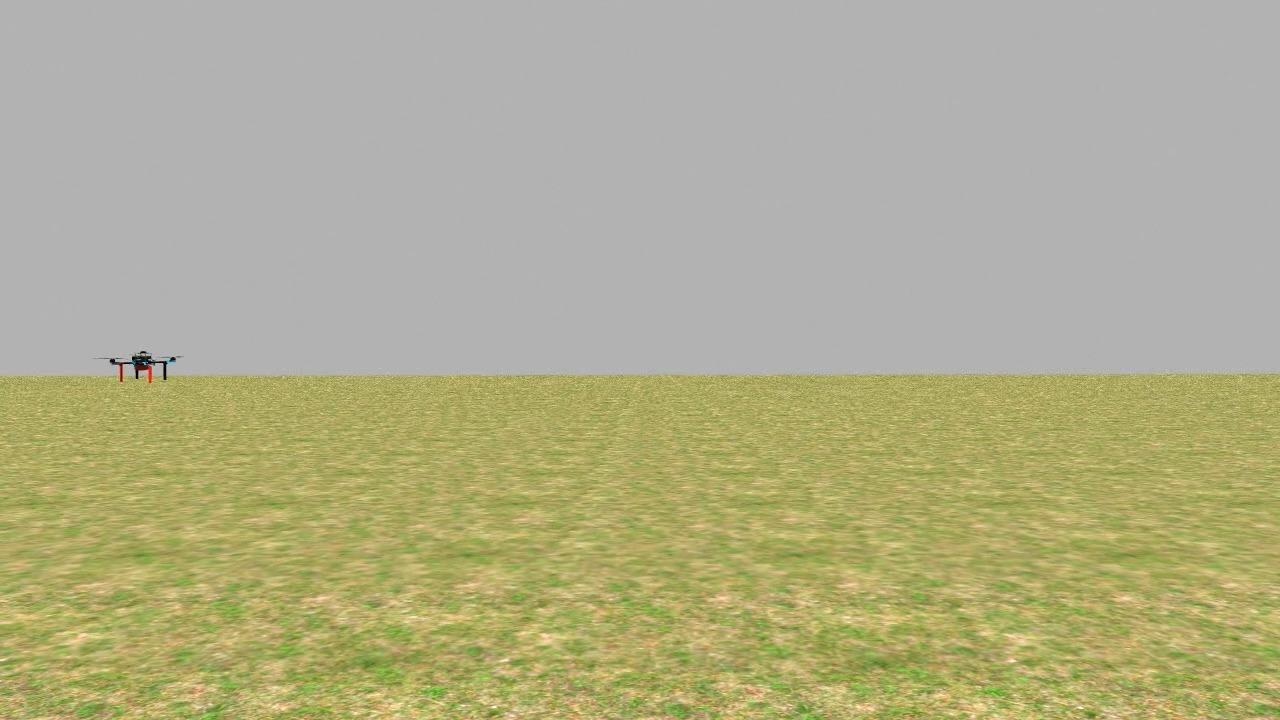UAV: (104, 340, 180, 387)
